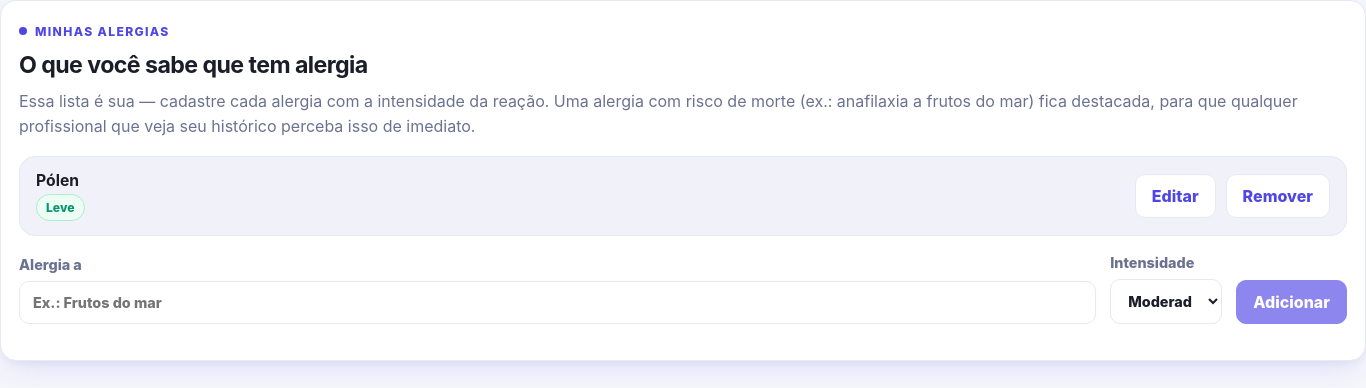
Scenario: lista de alergias na anamnese › remove uma alergia
The width and height of the screenshot is (1366, 388).
Click the button "Remover": [1278, 196] box [1226,174,1330,218]
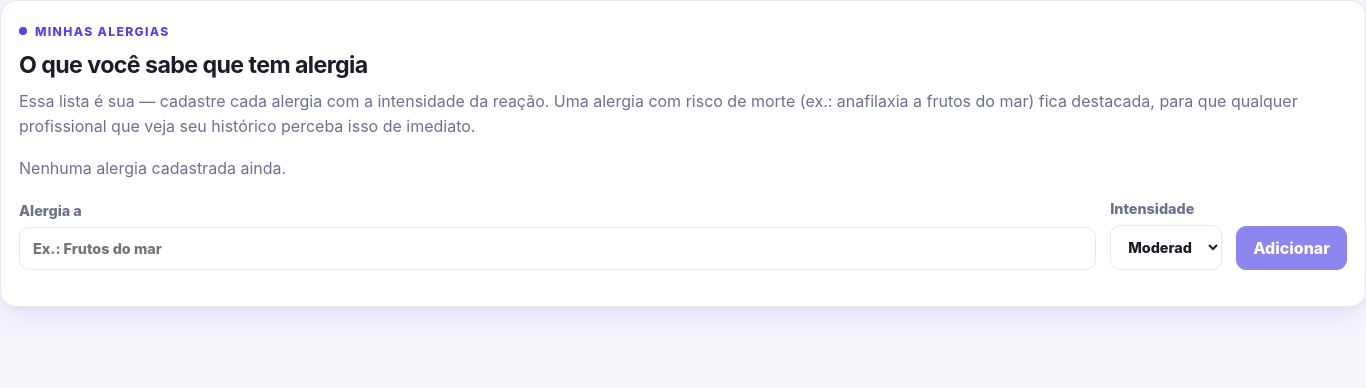
Check: the text "Nenhuma alergia cadastrada ainda." is shown, box [19,158,286,178]
